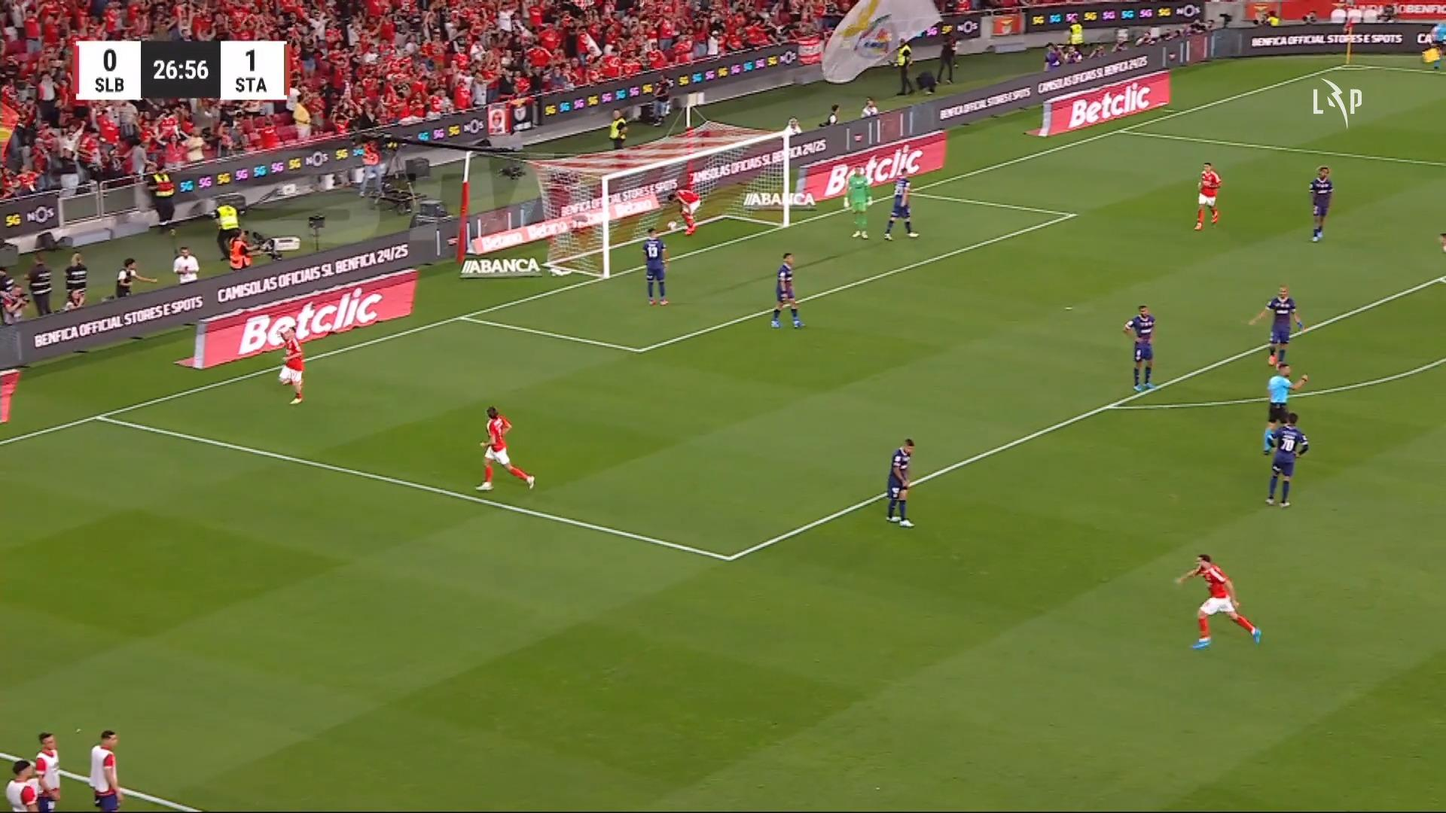goalkeeper: (844, 166, 873, 239)
player: (1174, 553, 1261, 650), (474, 405, 535, 492), (1247, 283, 1303, 367), (1262, 410, 1309, 507), (1122, 303, 1156, 391), (884, 437, 916, 527), (770, 251, 805, 328), (883, 174, 919, 240), (276, 324, 305, 404), (641, 227, 668, 306), (1193, 160, 1221, 230), (1308, 165, 1333, 242), (666, 185, 702, 236)
referee: (1261, 361, 1309, 454), (1421, 13, 1446, 73)
